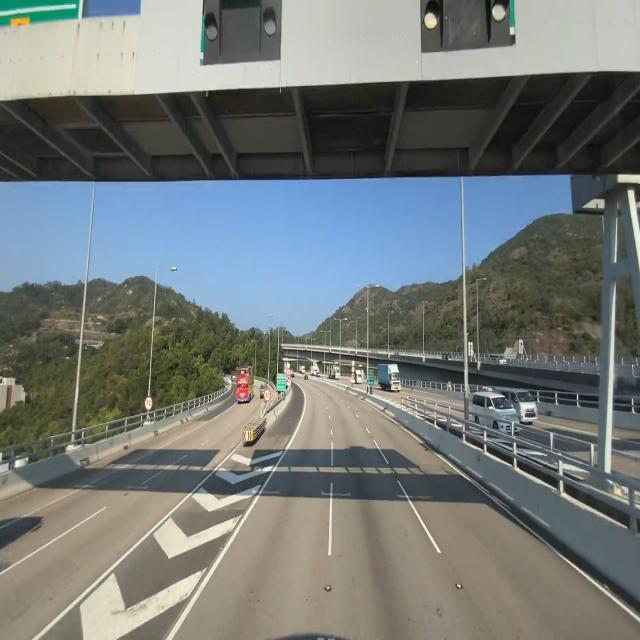Car: (234, 364, 257, 406)
